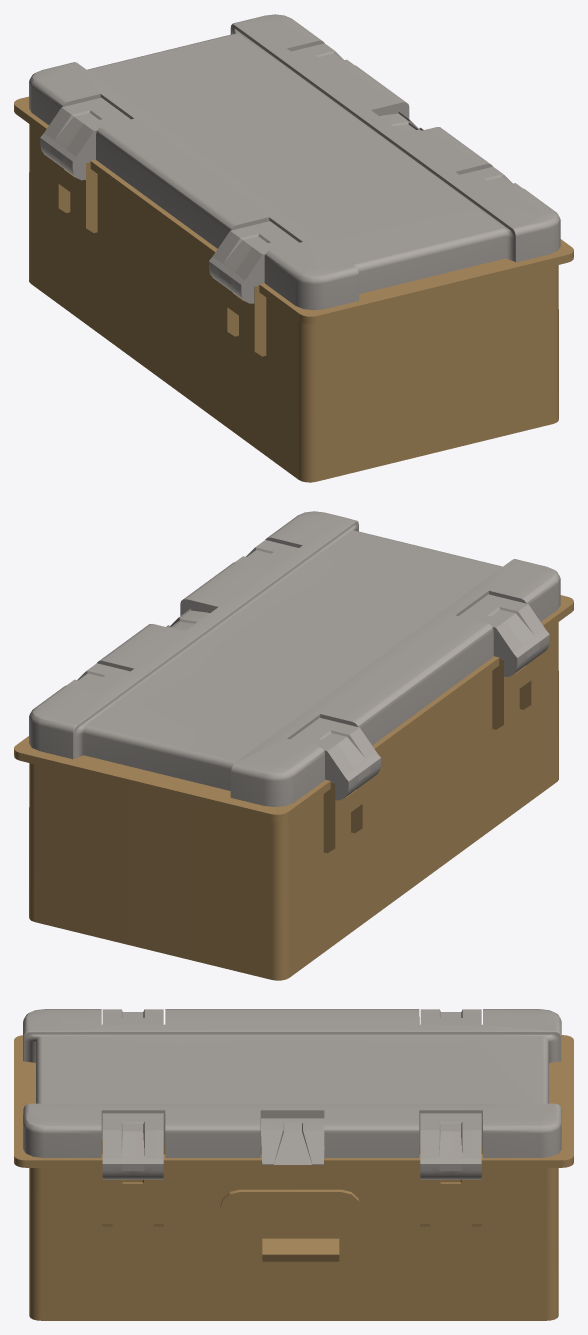
File: CaixaLeo.fbx
The picture shows the model from 3 angles, top to bottom: view 1: azimuth 30°, elevation 25°; view 2: azimuth 150°, elevation 25°; view 3: azimuth 270°, elevation 25°; orthographic projection. The views are drawn at different scales.
Parts seen in each view (by area): view 1: Base1, Tampa1, Rondana; view 2: Base1, Tampa1, Rondana; view 3: Base1, Tampa1, Rondana.
Boxes of the visible parts, x1,y1,x2,y2 form: Base1: (14, 96, 573, 482); Tampa1: (29, 14, 560, 310); Rondana: (291, 43, 522, 196); Base1: (14, 595, 573, 980); Tampa1: (29, 511, 560, 806); Rondana: (66, 540, 298, 693); Base1: (14, 1035, 573, 1320); Tampa1: (23, 1009, 561, 1164); Rondana: (102, 1113, 481, 1179).
Bounding box in the file's own units: 4.2 × 2.7 × 7.07.
